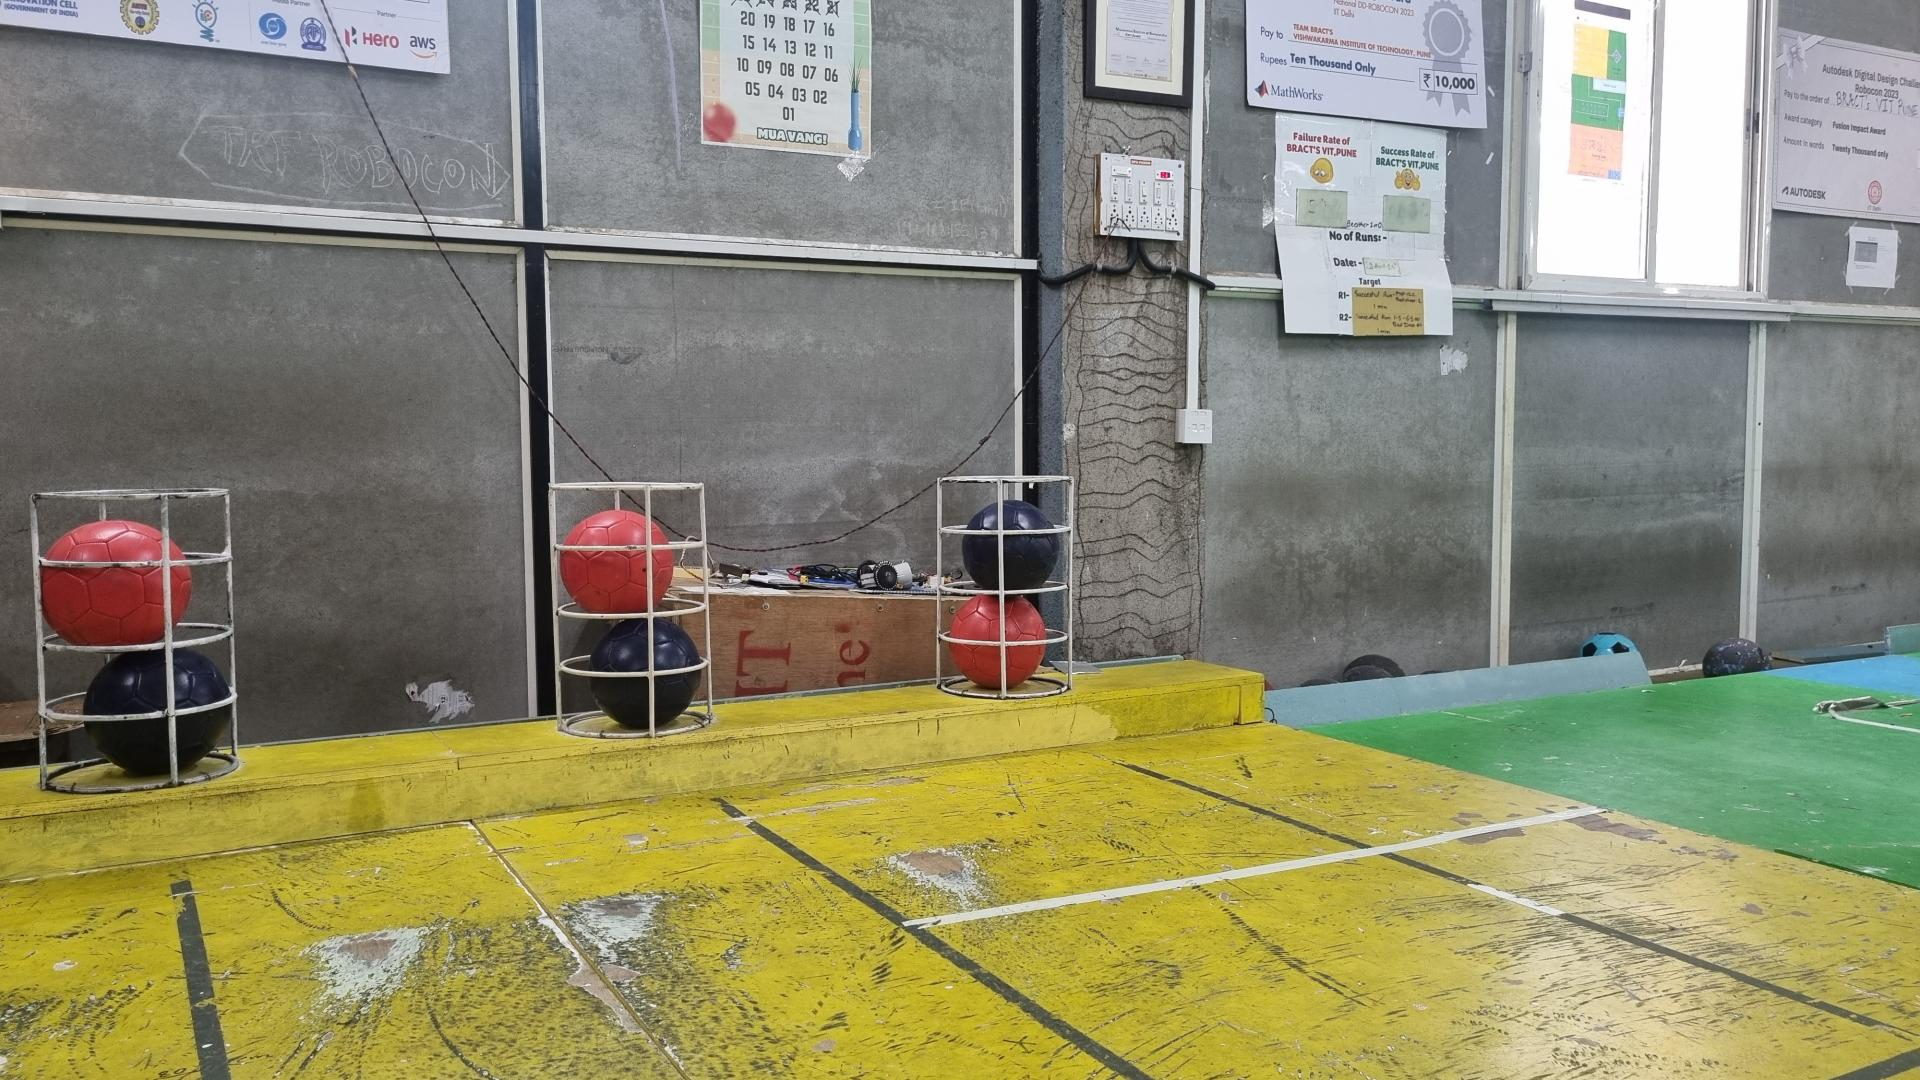dhoka: (83, 649, 232, 775), (588, 618, 702, 731), (960, 498, 1062, 592)
laale: (41, 521, 191, 649), (559, 509, 675, 615), (948, 596, 1046, 690)
